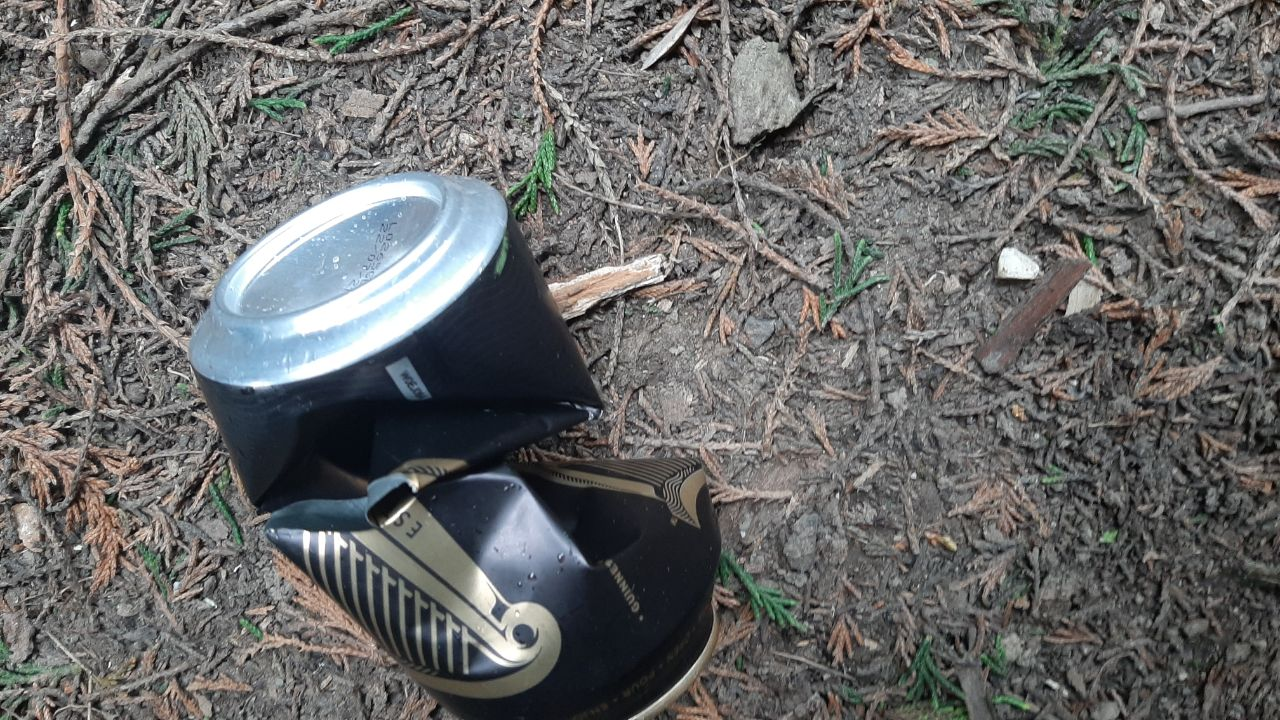Can: (188, 172, 724, 720)
